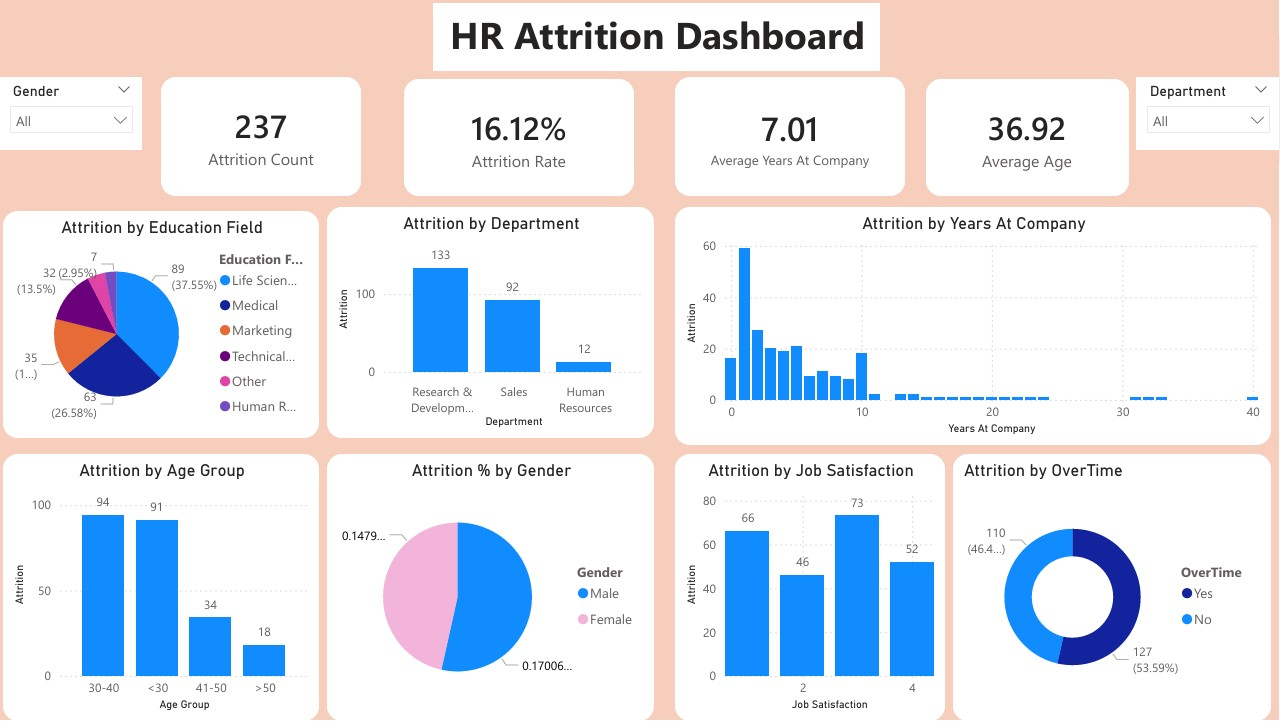

The page's visual inventory and layout, read from the dashboard file:
{"tool":"powerbi","page":{"name":"Page 1","canvas":[1280,720],"ordinal":0},"visuals":[{"type":"cardVisual","fields":{"Data":["Table1.Attrition_Count"]},"box":[161.2,76.2,200,118.8],"z":0},{"type":"cardVisual","fields":{"Data":["Table1.Attrition%"]},"box":[403.8,77.5,230,117.5],"z":1000},{"type":"columnChart","fields":{"Category":["Table1.Age_Group"],"Y":["Table1.Attrition_Count"]},"box":[3.4,453.2,315.4,266.5],"z":2000},{"type":"pieChart","title":"Attrition % by Gender","fields":{"Category":["Table1.Gender"],"Y":["Table1.Attrition%"]},"box":[326.8,453.2,326.8,266.5],"z":3000},{"type":"columnChart","fields":{"Category":["Table1.YearsAtCompany"],"Y":["Table1.Attrition_Count"]},"box":[675.3,206.1,595.6,238],"z":4000},{"type":"pieChart","fields":{"Category":["Table1.EducationField"],"Y":["Table1.Attrition_Count"]},"box":[3.4,209.5,315.4,227.8],"z":5000},{"type":"slicer","fields":{"Values":["Table1.Department"]},"box":[1137.1,77.1,142.9,72.9],"z":6000},{"type":"columnChart","fields":{"Category":["Table1.Department"],"Y":["Table1.Attrition_Count"]},"box":[326.8,206.1,326.8,231.2],"z":7000},{"type":"columnChart","fields":{"Category":["Table1.JobSatisfaction"],"Y":["Table1.Attrition_Count"]},"box":[675.3,453.2,269.9,266.5],"z":8000},{"type":"donutChart","fields":{"Category":["Table1.OverTime"],"Y":["Table1.Attrition_Count"]},"box":[953.2,453.2,317.7,266.5],"z":9000},{"type":"cardVisual","fields":{"Data":["Table1.AVG_years_at_company"]},"box":[675,76.2,230,118.8],"z":10000},{"type":"cardVisual","fields":{"Data":["Table1.avg_age"]},"box":[926.2,77.5,202.5,117.5],"z":11000},{"type":"slicer","fields":{"Values":["Table1.Gender"]},"box":[0,77.1,142.9,72.9],"z":12000},{"type":"textbox","box":[433.8,2.5,447.5,68.8],"z":13000}]}

Visuals, with their boxes in screenshot pixels (x1, y1, x2, y2), scaled from the page's 1280x720 canvas onto the 1280x721 screenshot:
cardVisual - Table1.Attrition_Count: bbox=[161, 76, 361, 195]
cardVisual - Table1.Attrition%: bbox=[404, 78, 634, 195]
columnChart - Table1.Age_Group x Table1.Attrition_Count: bbox=[3, 454, 319, 720]
"Attrition % by Gender" pieChart: bbox=[327, 454, 654, 720]
columnChart - Table1.YearsAtCompany x Table1.Attrition_Count: bbox=[675, 206, 1271, 445]
pieChart - Table1.EducationField x Table1.Attrition_Count: bbox=[3, 210, 319, 438]
slicer - Table1.Department: bbox=[1137, 77, 1279, 150]
columnChart - Table1.Department x Table1.Attrition_Count: bbox=[327, 206, 654, 438]
columnChart - Table1.JobSatisfaction x Table1.Attrition_Count: bbox=[675, 454, 945, 720]
donutChart - Table1.OverTime x Table1.Attrition_Count: bbox=[953, 454, 1271, 720]
cardVisual - Table1.AVG_years_at_company: bbox=[675, 76, 905, 195]
cardVisual - Table1.avg_age: bbox=[926, 78, 1129, 195]
slicer - Table1.Gender: bbox=[0, 77, 143, 150]
textbox: bbox=[434, 3, 881, 71]
